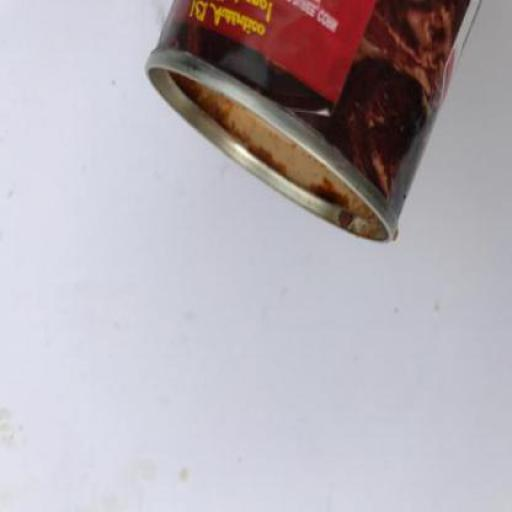metal: (143, 1, 483, 244)
